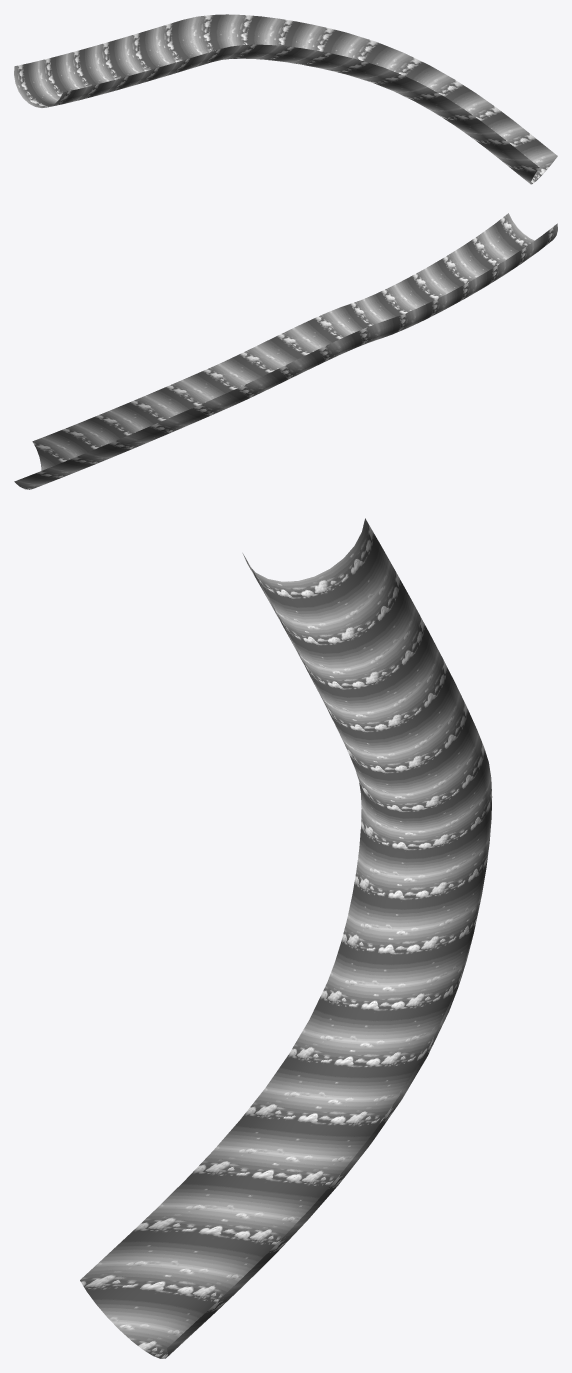
File: SlideTestA.fbx
3 views of the same model, one above another, from view 1: azimuth 30°, elevation 25°; view 2: azimuth 210°, elevation 25°; view 3: azimuth 270°, elevation 25° (orthographic). The views are drawn at different scales.
Visible parts, largest first — view 1: BezierCurve; view 2: BezierCurve; view 3: BezierCurve.
Part boxes in pixels (x1,y1,x2,y2): BezierCurve: [14, 14, 557, 184]; BezierCurve: [14, 213, 557, 489]; BezierCurve: [80, 518, 492, 1358].
Size of the model in its own units: 691330 by 252427 by 249029.
Materials: 1 (1 with a texture image).
